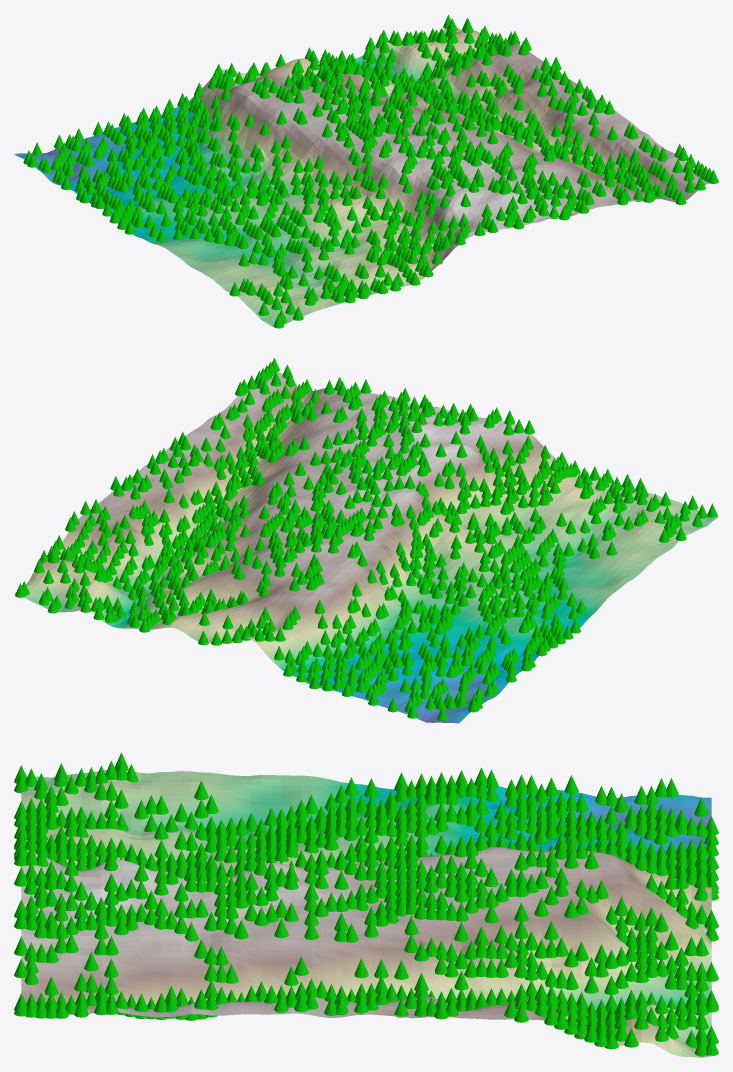
File: 002714_with_tree.glb
3 renders of one model, top to bottom at view 1: azimuth 30°, elevation 25°; view 2: azimuth 150°, elevation 25°; view 3: azimuth 270°, elevation 25°, orthographic. The views are drawn at different scales.
Parts seen in each view (by area): view 1: trees, terrain; view 2: trees, terrain; view 3: trees, terrain.
Boxes of the visible parts, <box> form: trees: <box>23,15,718,328</box>; terrain: <box>14,26,708,326</box>; trees: <box>15,358,717,720</box>; terrain: <box>14,371,718,723</box>; trees: <box>14,752,718,1056</box>; terrain: <box>21,770,711,1057</box>.
Bounding box in the file's own units: 0.0187 × 0.0032 × 0.019.
